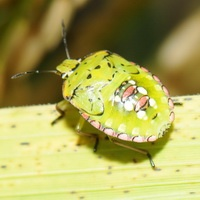insect: (51, 24, 174, 169)
